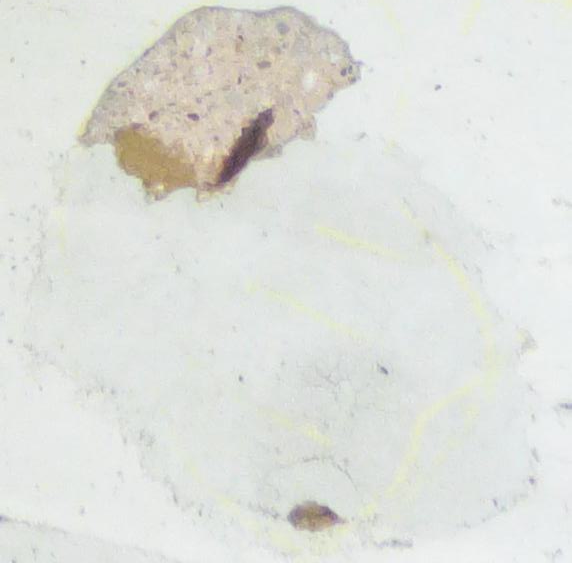Exposed reinforcement: (214, 107, 274, 185)
Spalling: (76, 4, 366, 202), (287, 500, 348, 533)
